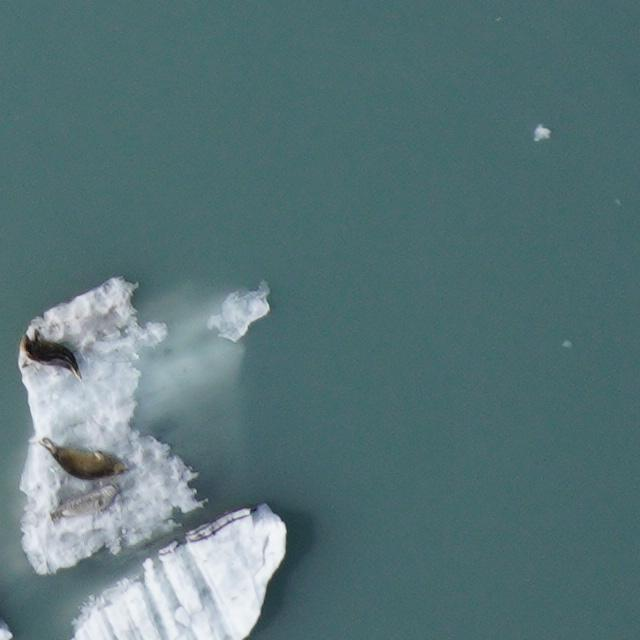seal: (31, 435, 136, 493), (13, 325, 95, 387), (46, 482, 124, 529)
